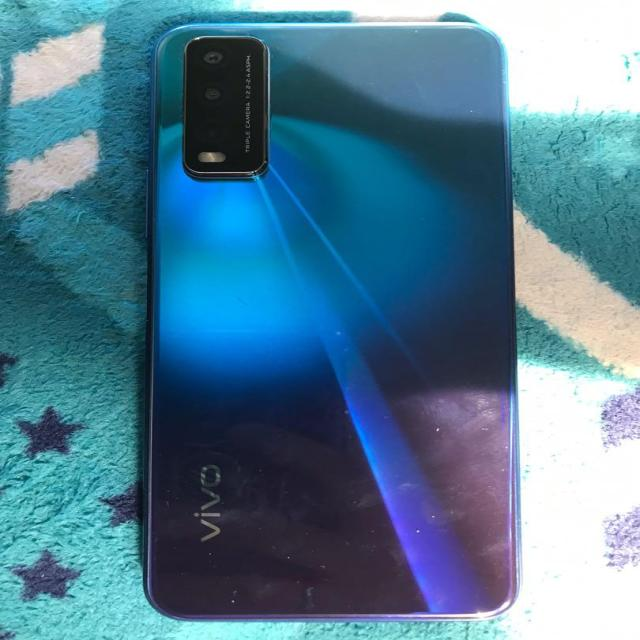mobile phone: (140, 19, 522, 623)
